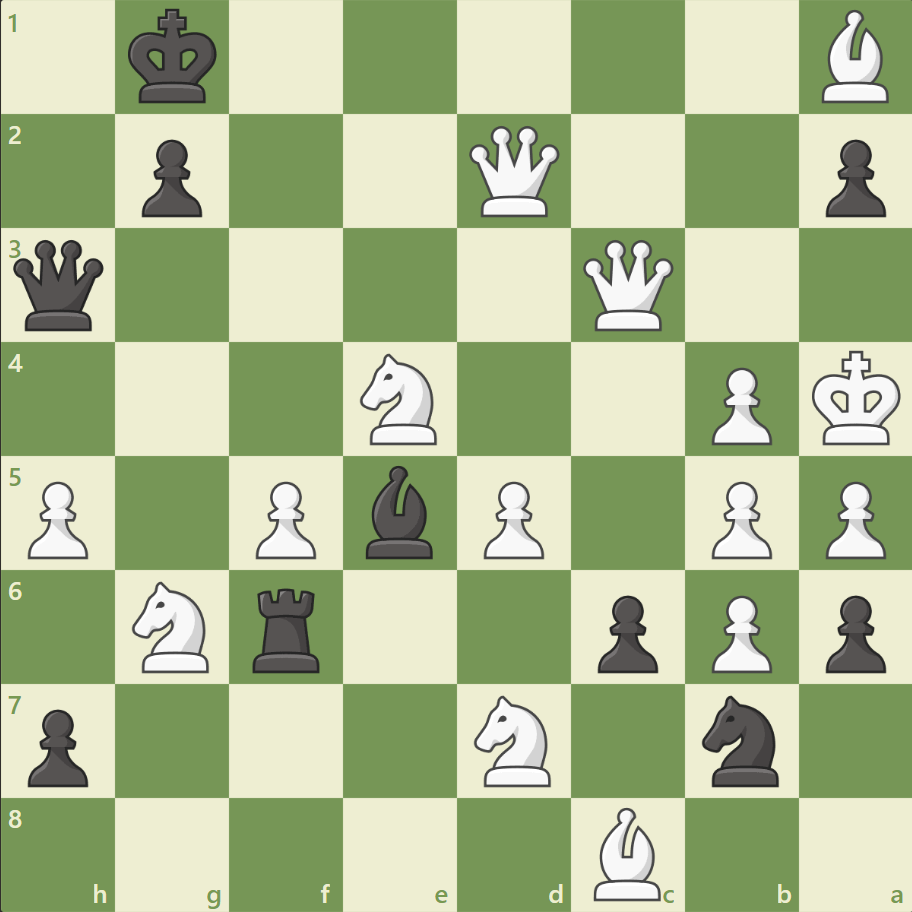B: (585, 801, 669, 904), (812, 6, 896, 109)
K: (806, 344, 906, 452)
N: (124, 575, 222, 677), (351, 348, 449, 450), (465, 688, 562, 791)
P: (701, 586, 776, 677), (701, 473, 776, 564), (474, 473, 549, 564), (247, 473, 322, 564), (20, 473, 95, 564), (701, 359, 776, 450), (815, 473, 889, 564)
Q: (464, 122, 563, 222), (578, 236, 677, 335)
b: (358, 460, 442, 563)
k: (124, 4, 224, 112)
n: (692, 688, 789, 791)
p: (20, 700, 95, 791), (133, 132, 208, 223), (815, 586, 889, 677), (588, 586, 662, 677), (815, 132, 889, 223)
q: (10, 236, 109, 335)
r: (246, 579, 329, 676)
